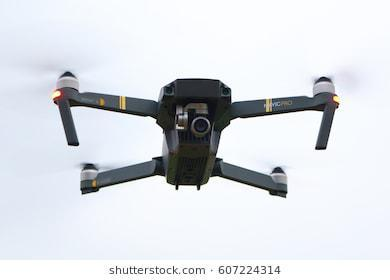drone: (48, 40, 345, 220)
